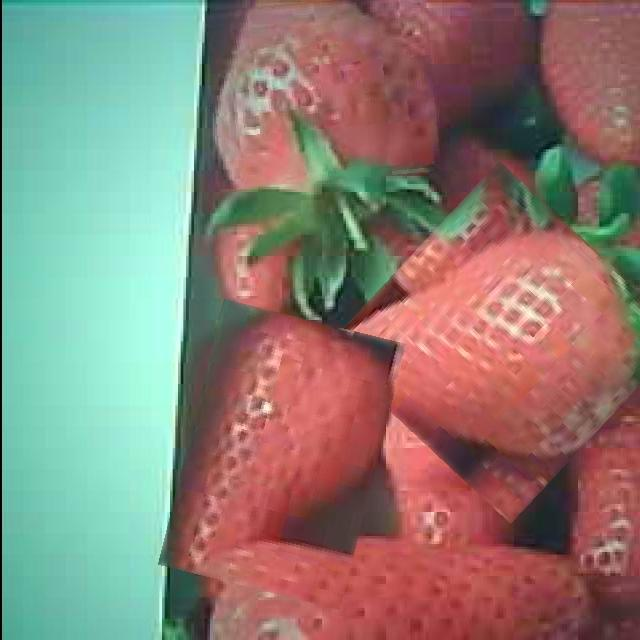strawberry: (348, 187, 640, 498), (172, 308, 390, 600), (208, 0, 437, 184)
